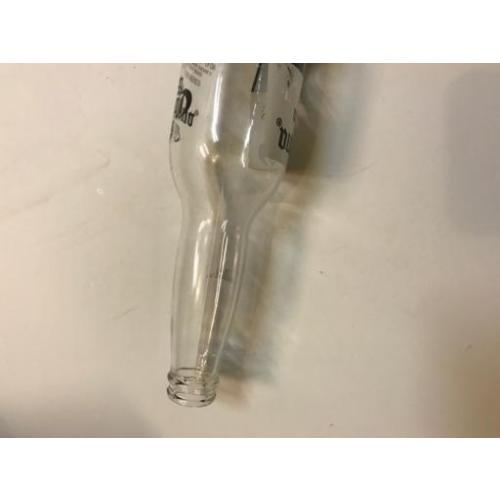glass: (171, 61, 308, 407)
